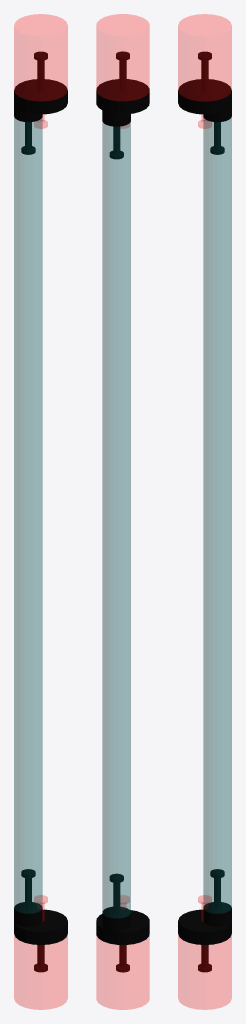
The model's file is VerticalFittingTreeResize.gltf.
The picture shows the model from 3 angles, left to right: view 1: azimuth 90°, elevation 25°; view 2: azimuth 150°, elevation 25°; view 3: azimuth 270°, elevation 25°; orthographic projection.
Visible parts, largest first — view 1: 3052885c-eba2-477a-8a0f-f17d6561a0c7_mesh, fd0ce184-ec43-471c-8284-8b9b5853c464_mesh, bb76c83b-6748-42bf-a70f-194c0116cb0f_mesh, 062c3fa4-80d3-4eb9-a0f8-b4d599461538_mesh, dd8b9cdd-d2df-4215-a737-52f7bd8de3d9_mesh; view 2: 3052885c-eba2-477a-8a0f-f17d6561a0c7_mesh, fd0ce184-ec43-471c-8284-8b9b5853c464_mesh, bb76c83b-6748-42bf-a70f-194c0116cb0f_mesh, 062c3fa4-80d3-4eb9-a0f8-b4d599461538_mesh, dd8b9cdd-d2df-4215-a737-52f7bd8de3d9_mesh; view 3: 3052885c-eba2-477a-8a0f-f17d6561a0c7_mesh, fd0ce184-ec43-471c-8284-8b9b5853c464_mesh, bb76c83b-6748-42bf-a70f-194c0116cb0f_mesh, 062c3fa4-80d3-4eb9-a0f8-b4d599461538_mesh, dd8b9cdd-d2df-4215-a737-52f7bd8de3d9_mesh.
Part boxes in pixels (<box>): 3052885c-eba2-477a-8a0f-f17d6561a0c7_mesh: <box>14,117,42,913</box>; fd0ce184-ec43-471c-8284-8b9b5853c464_mesh: <box>14,14,67,128</box>; bb76c83b-6748-42bf-a70f-194c0116cb0f_mesh: <box>14,895,67,1009</box>; 062c3fa4-80d3-4eb9-a0f8-b4d599461538_mesh: <box>14,51,67,154</box>; dd8b9cdd-d2df-4215-a737-52f7bd8de3d9_mesh: <box>14,869,67,972</box>; 3052885c-eba2-477a-8a0f-f17d6561a0c7_mesh: <box>102,122,130,917</box>; fd0ce184-ec43-471c-8284-8b9b5853c464_mesh: <box>96,14,149,128</box>; bb76c83b-6748-42bf-a70f-194c0116cb0f_mesh: <box>96,895,149,1009</box>; 062c3fa4-80d3-4eb9-a0f8-b4d599461538_mesh: <box>96,51,149,159</box>; dd8b9cdd-d2df-4215-a737-52f7bd8de3d9_mesh: <box>96,873,149,972</box>; 3052885c-eba2-477a-8a0f-f17d6561a0c7_mesh: <box>203,117,231,913</box>; fd0ce184-ec43-471c-8284-8b9b5853c464_mesh: <box>178,14,231,128</box>; bb76c83b-6748-42bf-a70f-194c0116cb0f_mesh: <box>178,895,231,1009</box>; 062c3fa4-80d3-4eb9-a0f8-b4d599461538_mesh: <box>178,51,231,154</box>; dd8b9cdd-d2df-4215-a737-52f7bd8de3d9_mesh: <box>178,869,231,972</box>.
Bounding box in the file's own units: 0.15 × 3 × 0.15.
